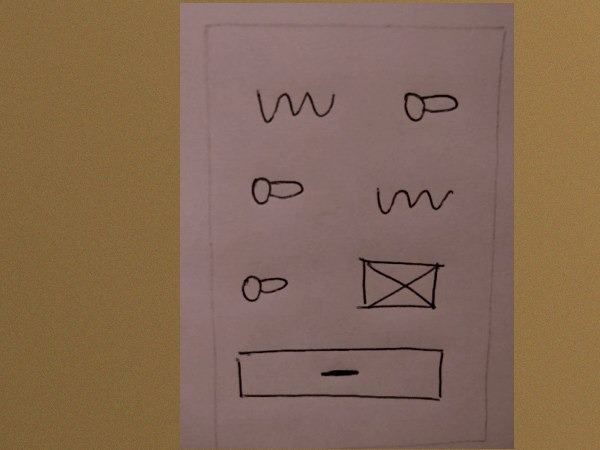button: (230, 338, 448, 408)
image: (349, 252, 449, 321)
switch: (399, 83, 465, 130), (245, 171, 311, 217), (237, 270, 292, 312)
text: (251, 82, 341, 131), (372, 178, 462, 226)
